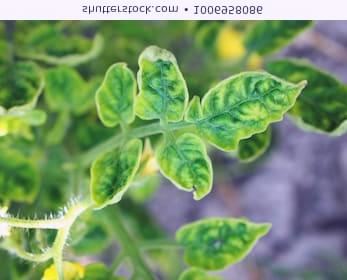Tomato leaf yellow virus: (189, 67, 323, 146), (177, 207, 297, 278), (132, 42, 194, 132), (158, 127, 221, 204), (87, 133, 136, 219)
